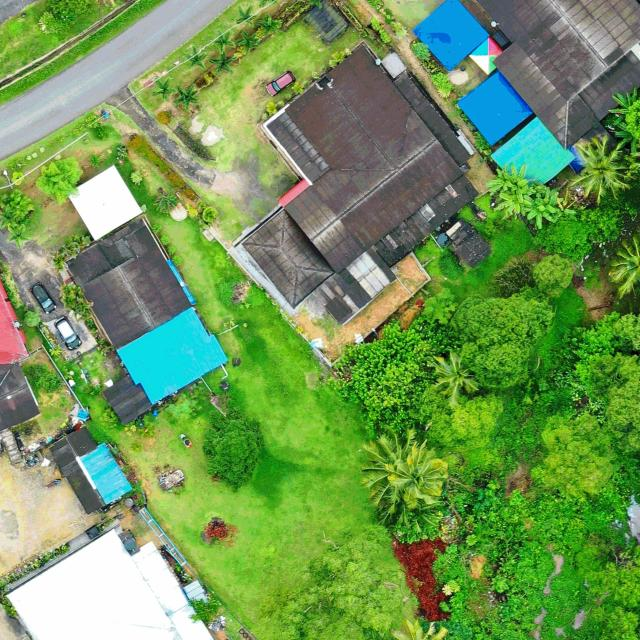Tree: (337, 314, 450, 434), (452, 288, 556, 393), (359, 427, 449, 532), (570, 133, 640, 205), (203, 412, 263, 488), (486, 162, 535, 220), (428, 352, 479, 403), (34, 155, 84, 204), (609, 230, 640, 297), (522, 181, 564, 228), (530, 253, 575, 296), (384, 615, 454, 640), (21, 362, 61, 396), (45, 0, 94, 24), (173, 85, 199, 111), (209, 52, 237, 75), (233, 29, 260, 52), (152, 77, 177, 101), (258, 13, 283, 36), (235, 5, 259, 28), (8, 224, 30, 249), (214, 29, 236, 52), (185, 47, 208, 69), (0, 206, 18, 228), (306, 0, 324, 10), (0, 191, 8, 211), (255, 0, 278, 6)
